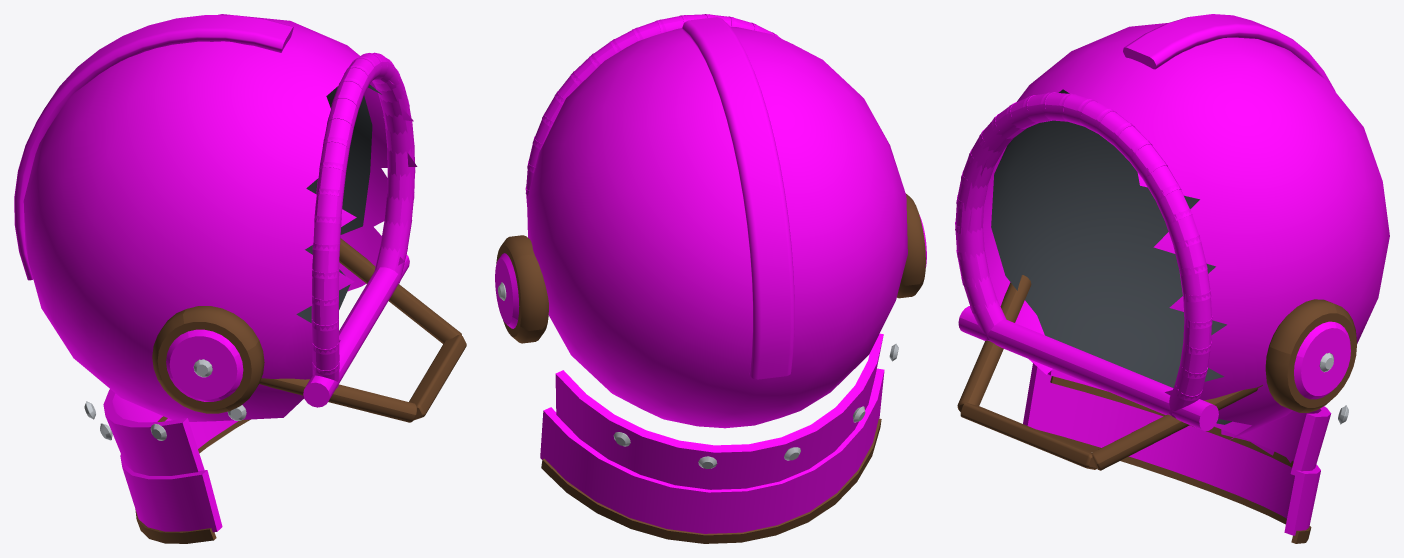
The model's file is objet_armure1_casque.glb.
3 renders of one model, left to right at view 1: azimuth 30°, elevation 25°; view 2: azimuth 150°, elevation 25°; view 3: azimuth 270°, elevation 25°, orthographic. The views are drawn at different scales.
Visible parts, largest first — view 1: tete__casque_teinte.010, tete__casque_sac_cuir.002, tete__casque_teinte_sombre.010, tete__casque_rivet.006; view 2: tete__casque_teinte.010, tete__casque_sac_cuir.002, tete__casque_rivet.006; view 3: tete__casque_teinte.010, tete__casque_teinte_sombre.010, tete__casque_sac_cuir.002.
Part boxes in pixels (x1=…): tete__casque_teinte.010: x1=14, y1=14, x2=417, y2=532; tete__casque_sac_cuir.002: x1=135, y1=238, x2=466, y2=543; tete__casque_teinte_sombre.010: x1=296, y1=84, x2=381, y2=322; tete__casque_rivet.006: x1=84, y1=359, x2=246, y2=440; tete__casque_teinte.010: x1=495, y1=14, x2=926, y2=533; tete__casque_sac_cuir.002: x1=496, y1=193, x2=925, y2=543; tete__casque_rivet.006: x1=498, y1=282, x2=898, y2=468; tete__casque_teinte.010: x1=955, y1=14, x2=1389, y2=535; tete__casque_teinte_sombre.010: x1=991, y1=89, x2=1231, y2=424; tete__casque_sac_cuir.002: x1=957, y1=275, x2=1356, y2=543.
Size of the model in its own units: 0.247 by 0.3157 by 0.2469.
